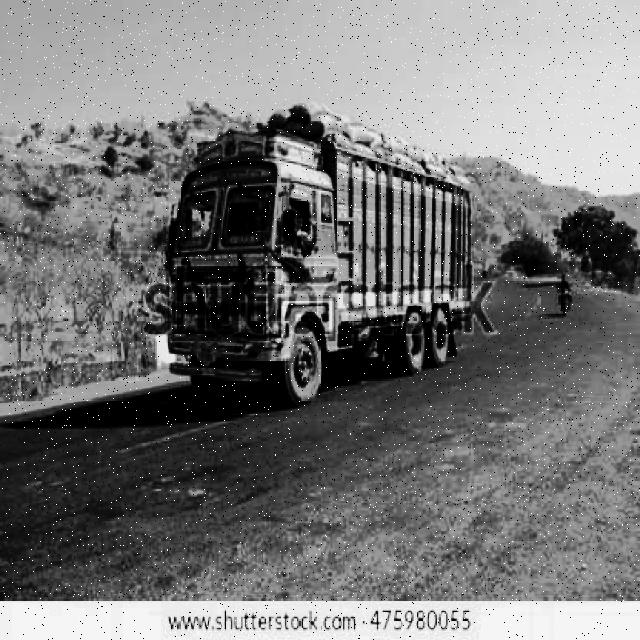HCV: (180, 125, 468, 399)
